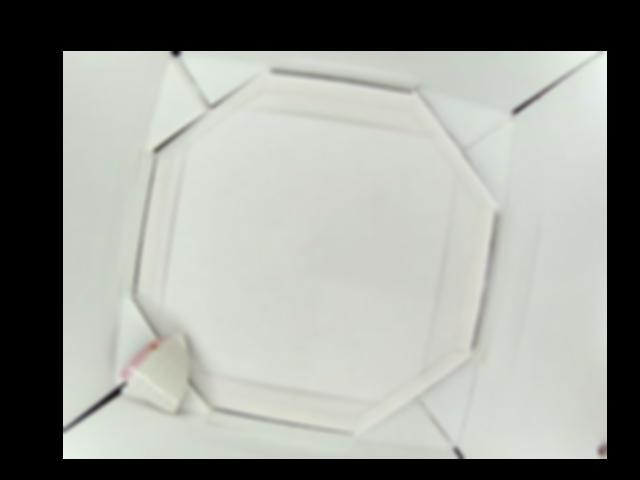China: (117, 326, 193, 413)
